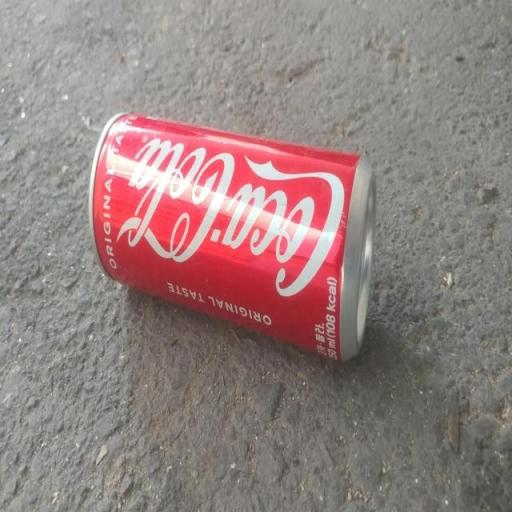metal: (79, 82, 388, 401)
